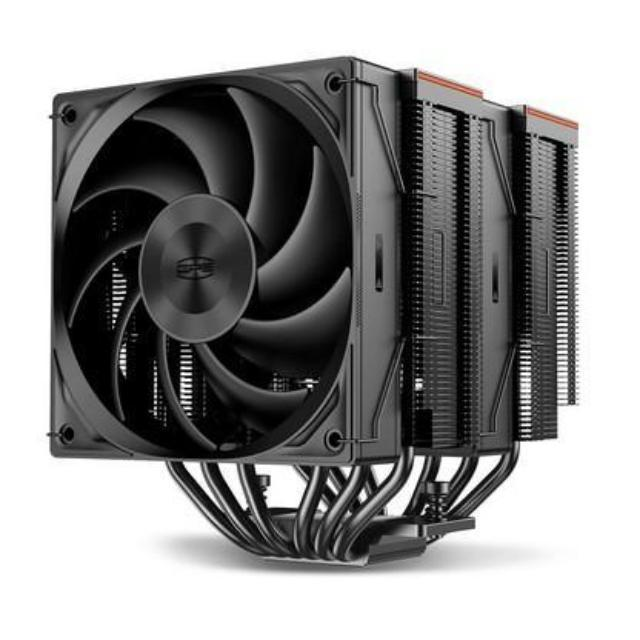CPU_Fan: (52, 59, 574, 568)
